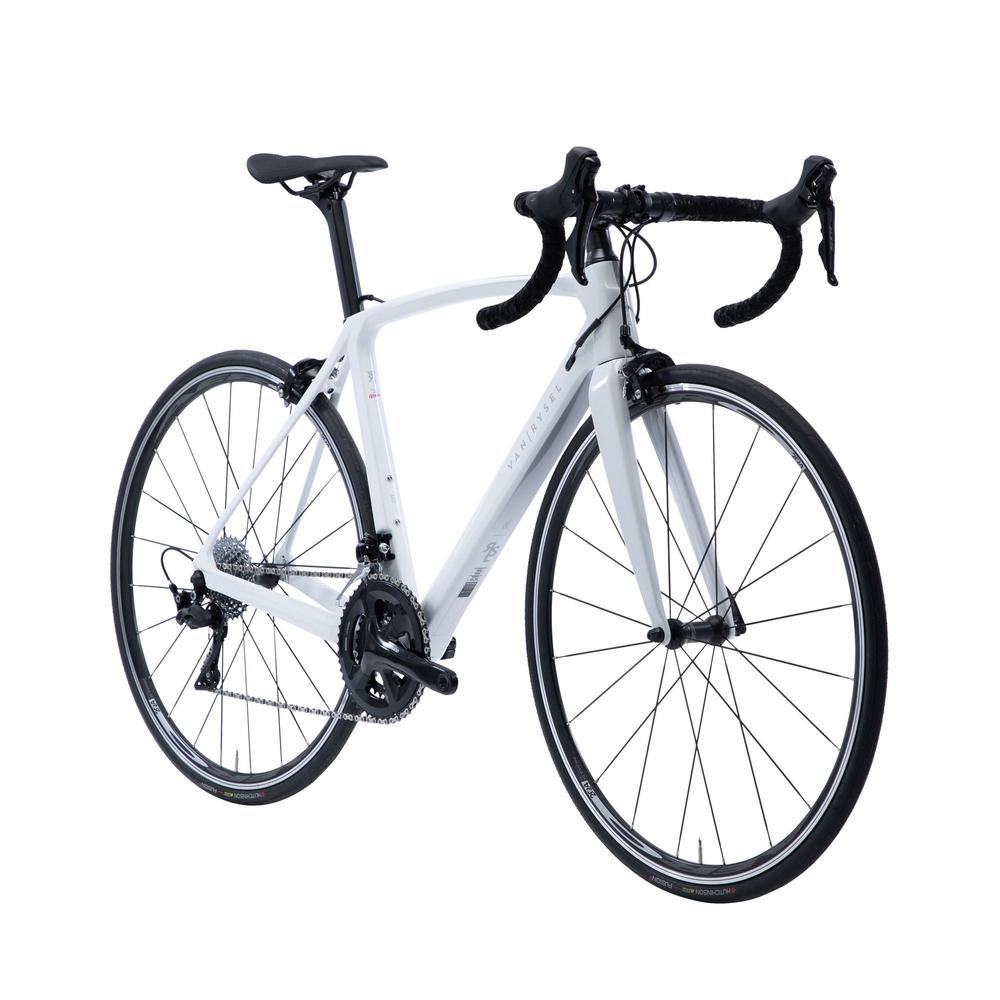RoadBike: (115, 143, 889, 903)
